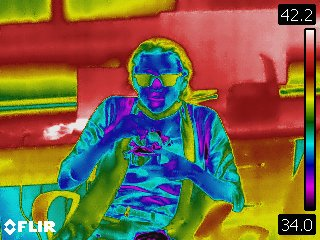human: (56, 37, 245, 240)
